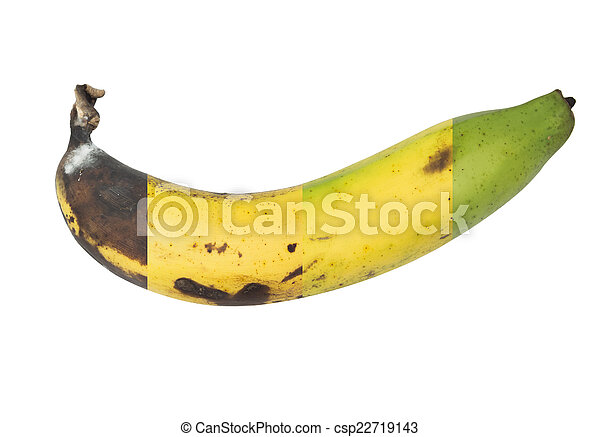looks_defective: (19, 99, 600, 376)
